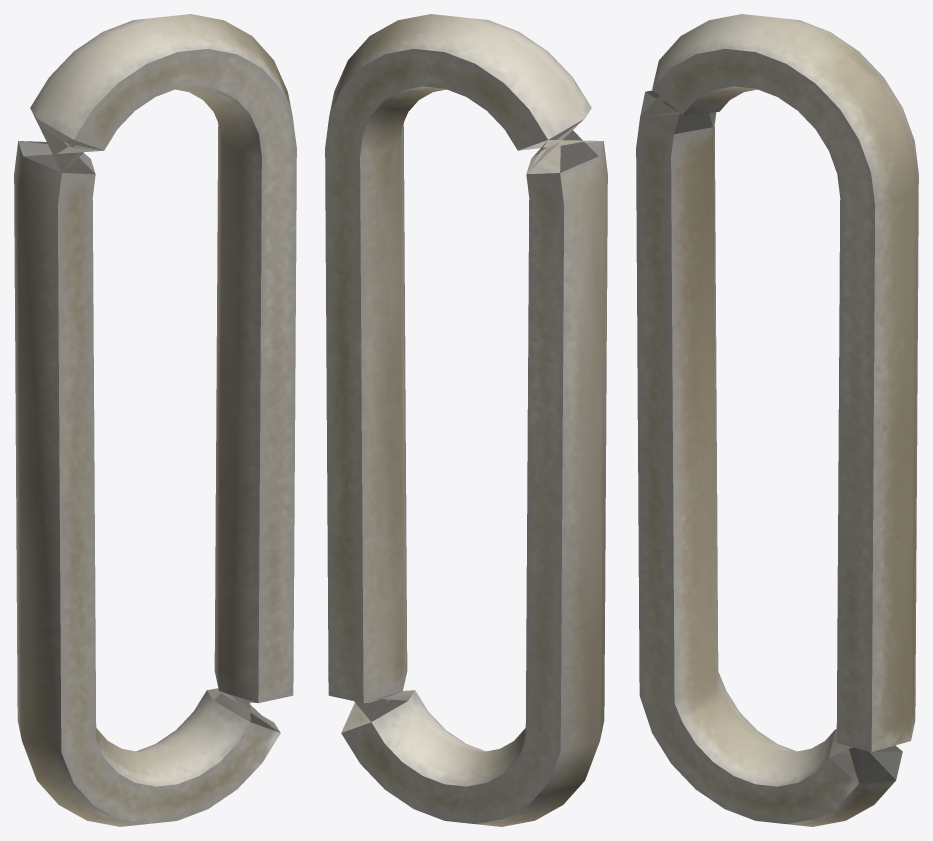
The model's file is Runelink Flail_ChainLink.fbx.
3 renders of one model, left to right at view 1: azimuth 30°, elevation 25°; view 2: azimuth 150°, elevation 25°; view 3: azimuth 330°, elevation 25°, orthographic.
Visible parts, largest first — view 1: Runelink Flail_ChainLink; view 2: Runelink Flail_ChainLink; view 3: Runelink Flail_ChainLink.
Boxes of the visible parts, left/top/right/bottom form: Runelink Flail_ChainLink: left=14, top=14, right=296, bottom=826; Runelink Flail_ChainLink: left=325, top=14, right=607, bottom=826; Runelink Flail_ChainLink: left=636, top=14, right=918, bottom=826.
Size of the model in its own units: 0.094 by 0.264 by 0.026.
